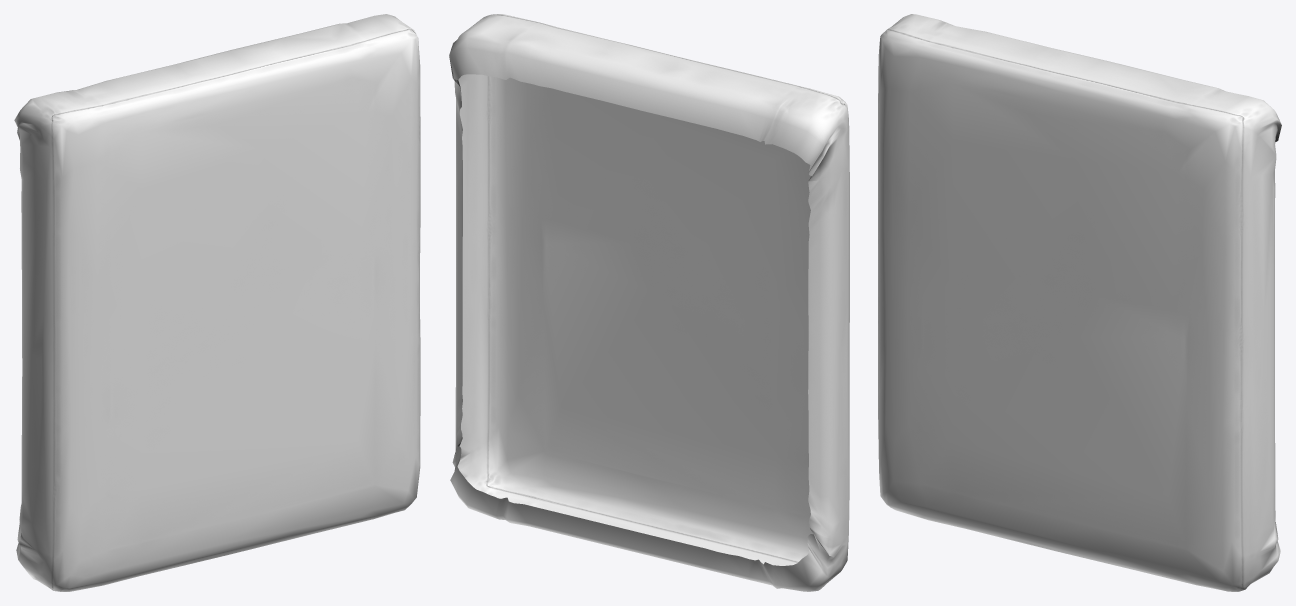
The model's file is BedMattress_9_BedMattress_9_1.obj.
The picture shows the model from 3 angles, left to right: view 1: azimuth 30°, elevation 25°; view 2: azimuth 150°, elevation 25°; view 3: azimuth 330°, elevation 25°; orthographic projection.
Visible parts, largest first — view 1: BedMattress_9; view 2: BedMattress_9; view 3: BedMattress_9.
Part boxes in pixels (x1,y1,x2,y2): BedMattress_9: (14, 14, 420, 591); BedMattress_9: (449, 14, 849, 591); BedMattress_9: (878, 14, 1281, 591).
Size of the model in its own units: 1.95 by 2.38 by 0.3837.
